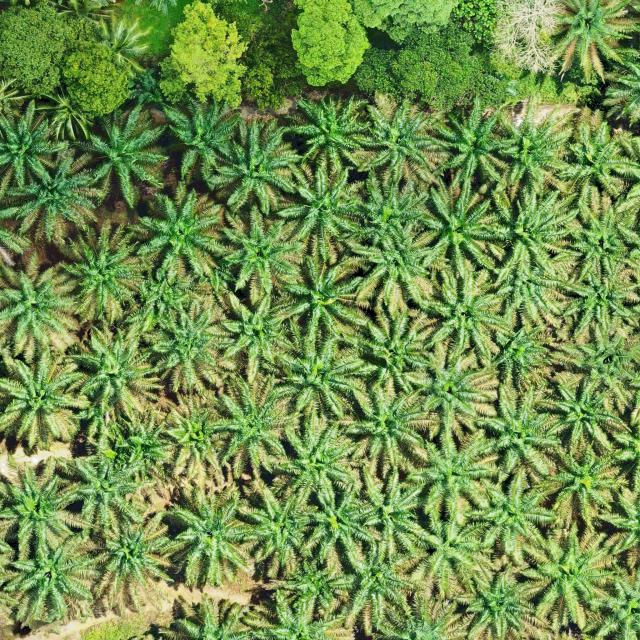0: (511, 520, 635, 632), (407, 266, 512, 372), (0, 526, 106, 630), (0, 244, 88, 368), (202, 366, 296, 480), (71, 108, 170, 215), (0, 452, 98, 560), (326, 538, 430, 639), (198, 118, 303, 218), (402, 346, 501, 450), (94, 506, 186, 617), (45, 222, 144, 325), (527, 439, 633, 535), (274, 252, 369, 358), (60, 226, 158, 328), (62, 320, 165, 416), (340, 374, 439, 473), (127, 184, 225, 284), (0, 151, 103, 245), (413, 175, 509, 275), (160, 479, 244, 593), (530, 1, 640, 88), (488, 179, 580, 282), (274, 322, 371, 419), (260, 419, 360, 513), (464, 465, 563, 559), (0, 348, 88, 452), (48, 447, 158, 529), (407, 426, 505, 518), (276, 162, 366, 262), (232, 476, 320, 578), (208, 286, 300, 382), (295, 481, 391, 571), (213, 211, 309, 301), (360, 97, 451, 187), (402, 511, 497, 597), (160, 97, 249, 188), (483, 379, 565, 475), (352, 231, 451, 310), (553, 322, 640, 411), (551, 252, 640, 337), (543, 372, 633, 455), (144, 303, 224, 395), (492, 107, 580, 190), (283, 90, 368, 174), (565, 106, 640, 201), (353, 305, 438, 388), (154, 395, 234, 483), (444, 558, 528, 640), (346, 461, 425, 541), (428, 108, 511, 182), (352, 170, 431, 246), (565, 200, 640, 278), (494, 262, 570, 330), (85, 12, 155, 85), (268, 555, 355, 611), (486, 314, 558, 378), (70, 398, 138, 457), (117, 411, 176, 477), (36, 86, 96, 142), (133, 271, 194, 317)
tree: (168, 1, 252, 108), (391, 22, 478, 112), (0, 2, 79, 95), (288, 0, 371, 88), (63, 48, 134, 119)
